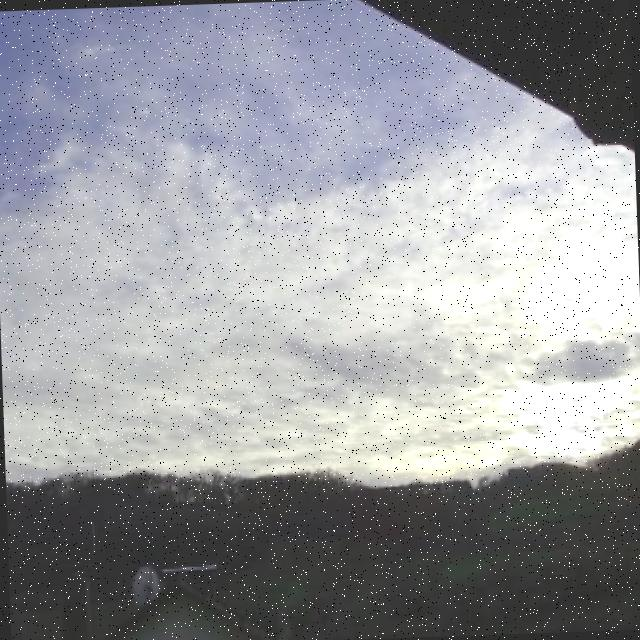Ac: (1, 86, 548, 420)
